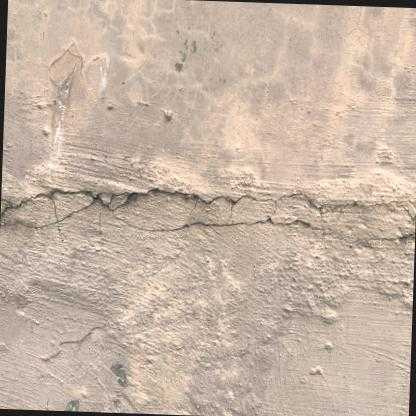crack: (0, 184, 334, 219)
